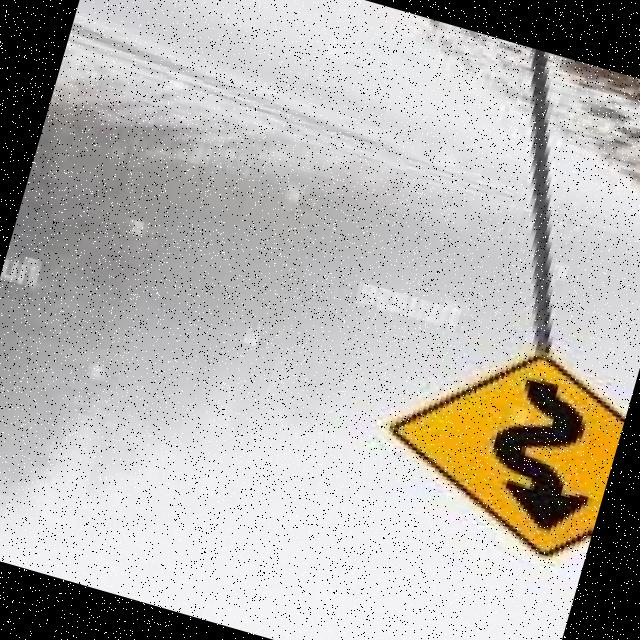left_sharp_curve: (341, 310, 636, 580)
